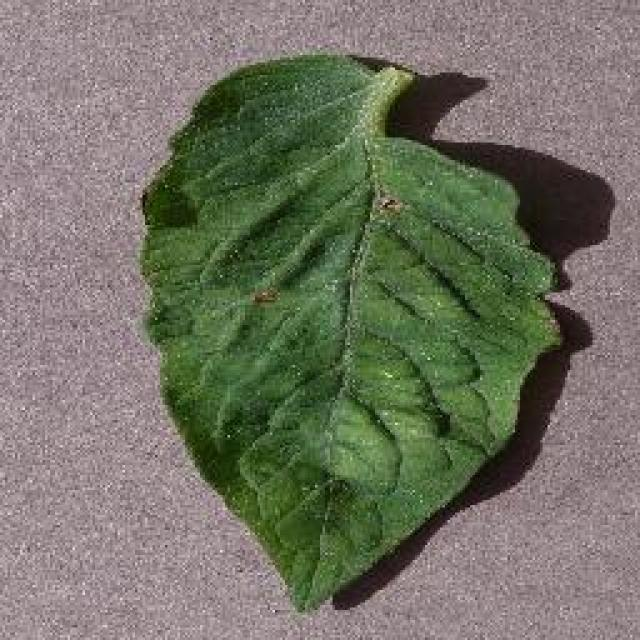Tomato___Target_Spot: (142, 55, 558, 608)
